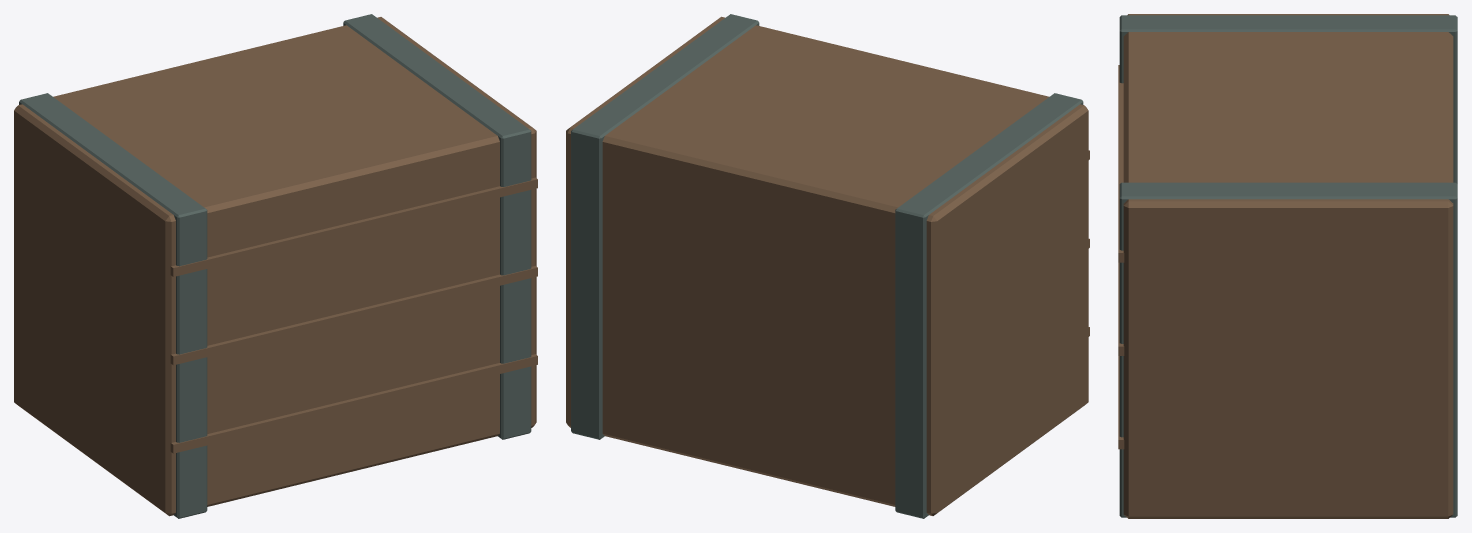
File: SM_Henhouse_Crate_A.fbx
The picture shows the model from 3 angles, left to right: view 1: azimuth 30°, elevation 25°; view 2: azimuth 150°, elevation 25°; view 3: azimuth 270°, elevation 25°; orthographic projection. The views are drawn at different scales.
Parts seen in each view (by area): view 1: SM_Henhouse_Crate_A; view 2: SM_Henhouse_Crate_A; view 3: SM_Henhouse_Crate_A.
Part boxes in pixels (x1,y1,x2,y2): SM_Henhouse_Crate_A: [14, 14, 537, 518]; SM_Henhouse_Crate_A: [566, 14, 1089, 518]; SM_Henhouse_Crate_A: [1118, 14, 1457, 518].
Size of what is drawn, in the model's own units: 82.25 by 110 by 86.
